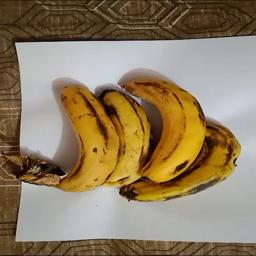Banana Semifresh: (23, 83, 119, 193)
